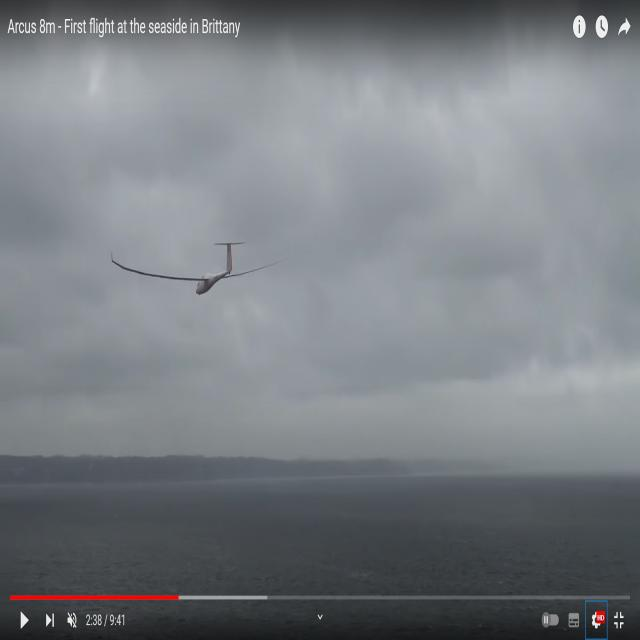iha: (106, 240, 283, 298)
